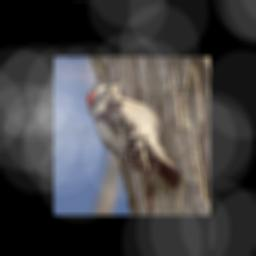Woodpecker: (85, 80, 181, 190)
